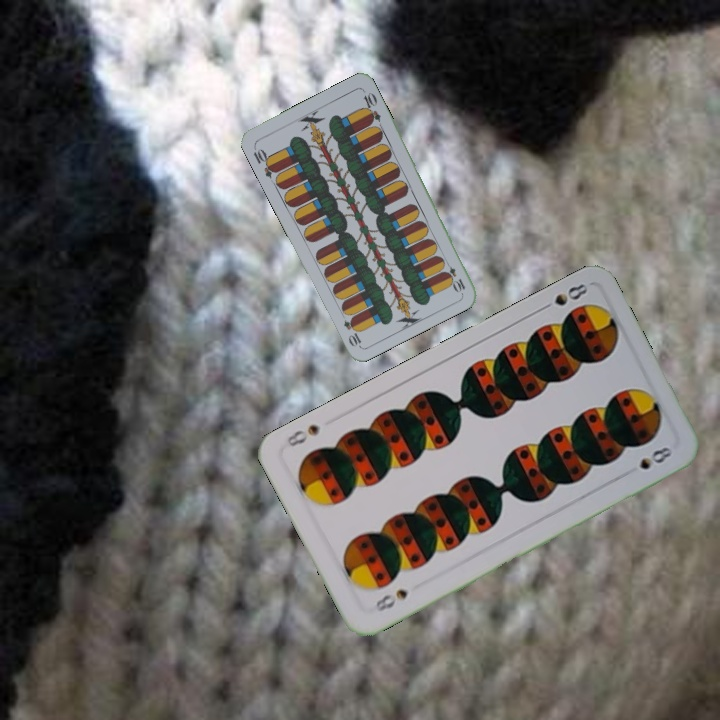E10: (249, 143, 280, 180), (440, 256, 468, 295)
S8: (535, 279, 591, 314), (371, 584, 410, 615)
